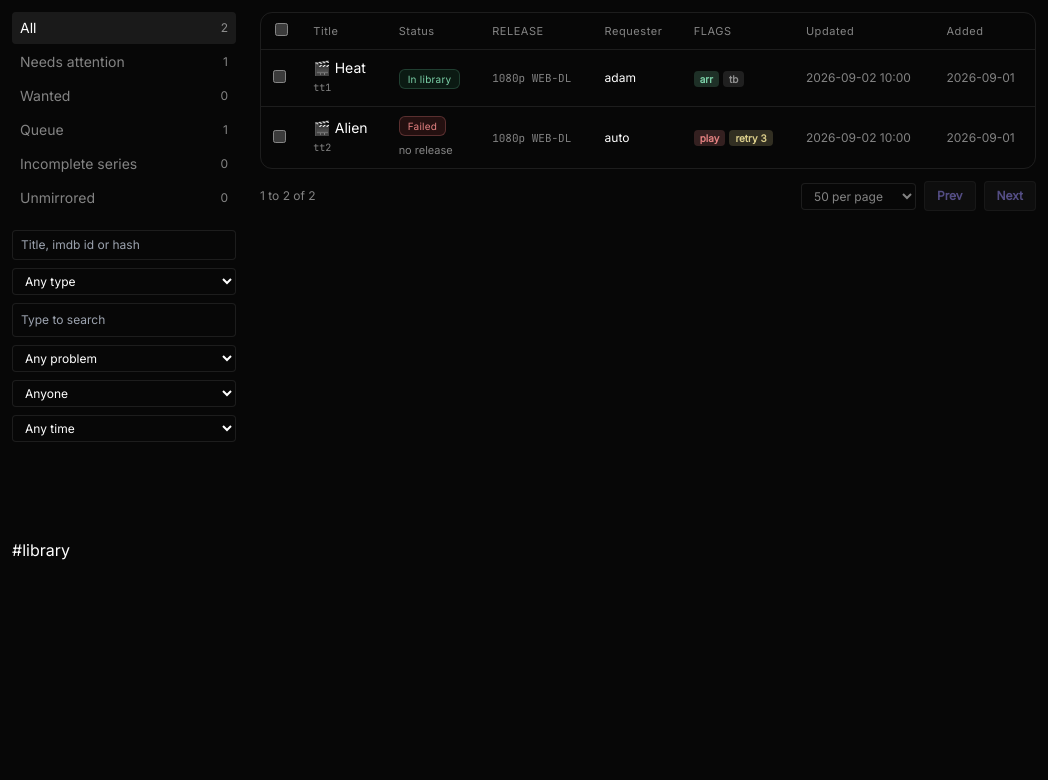
Scenario: Library tab › sorts by clicking a header and selects rows
The image size is (1048, 780).
Check: the text "Heat" is shown, box 335,59 -> 366,76
Click the button with aria-label "Sort by title" at (326, 31), box 313,21 -> 338,41
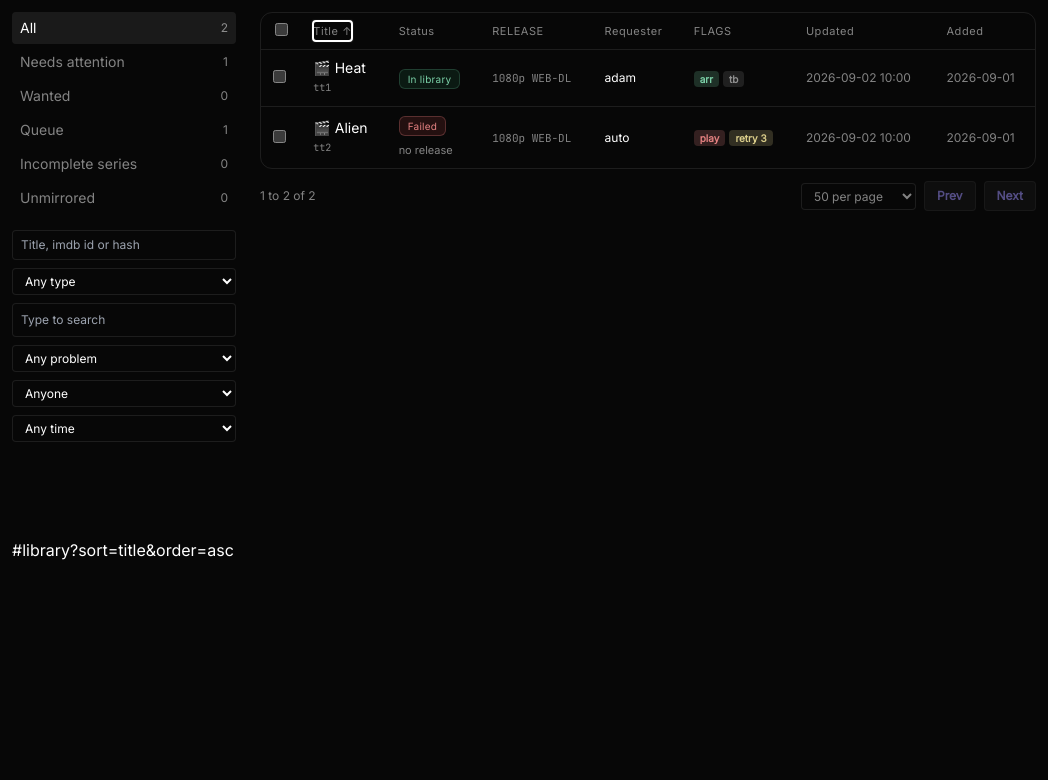
Click the button with aria-label "Sort by added" at (965, 31), box 946,21 -> 984,41
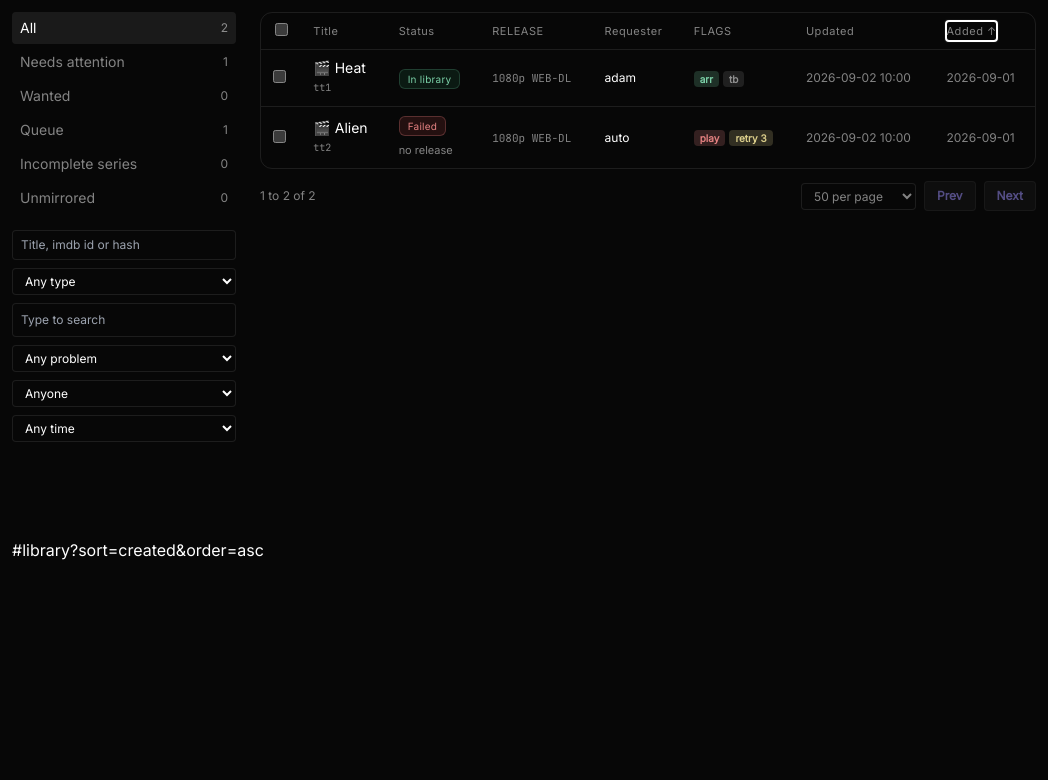
Click the checkbox named "Select Heat" at (280, 76), box 273,70 -> 286,83
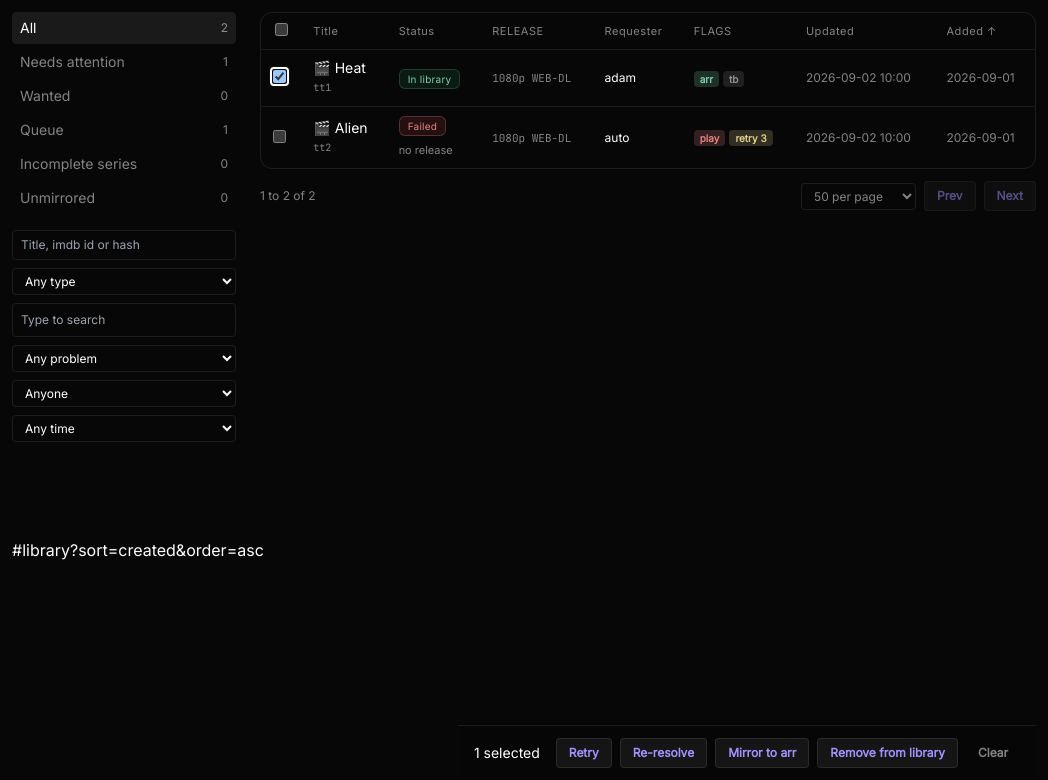
Check: the text "1 selected" is shown, box 474,743 -> 540,763
Click the checkbox named "Select all on this page" at (281, 30), box 275,23 -> 288,36
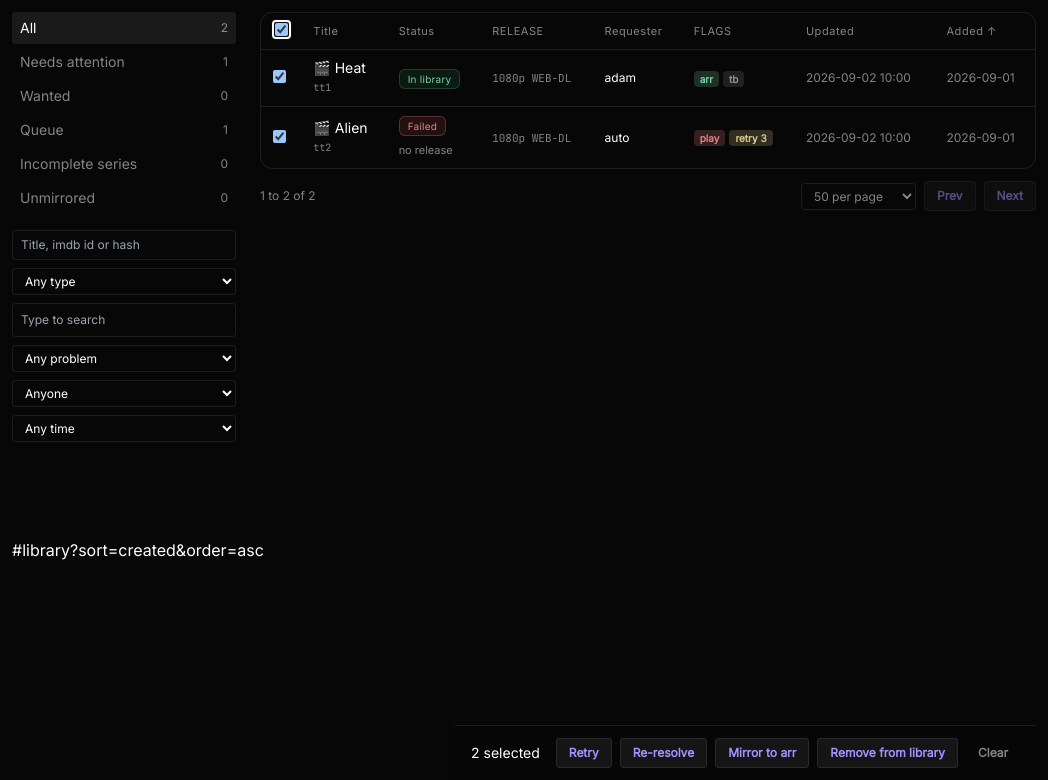
Check: the text "2 selected" is shown, box 471,743 -> 540,763
